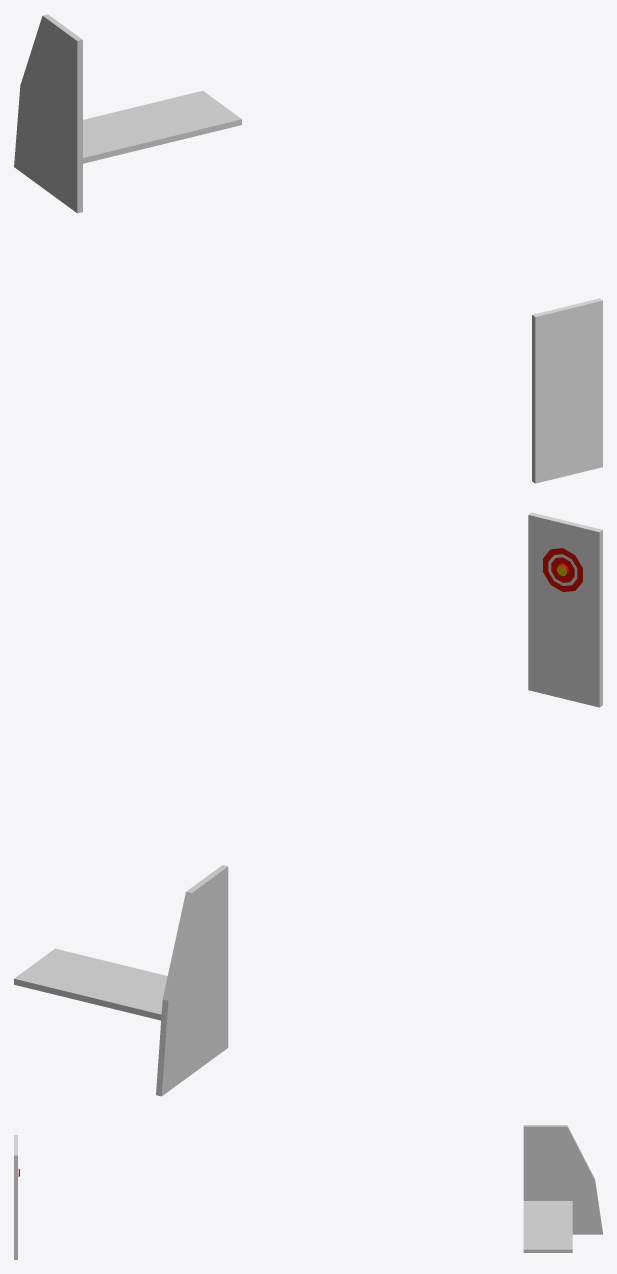
The model's file is Gym_Devart_Range.fbx.
3 renders of one model, top to bottom at view 1: azimuth 30°, elevation 25°; view 2: azimuth 150°, elevation 25°; view 3: azimuth 270°, elevation 25°, orthographic. The views are drawn at different scales.
Parts seen in each view (by area): view 1: Range_Booth, Shoot; view 2: Range_Booth, Shoot; view 3: Range_Booth, Shoot.
Part boxes in pixels (x1,y1,x2,y2): Range_Booth: (14, 14, 241, 213); Shoot: (532, 298, 602, 483); Range_Booth: (14, 865, 228, 1096); Shoot: (528, 512, 602, 707); Range_Booth: (523, 1125, 602, 1252); Shoot: (14, 1135, 19, 1259).
Bounding box in the file's own units: 300 × 316 × 1484.
